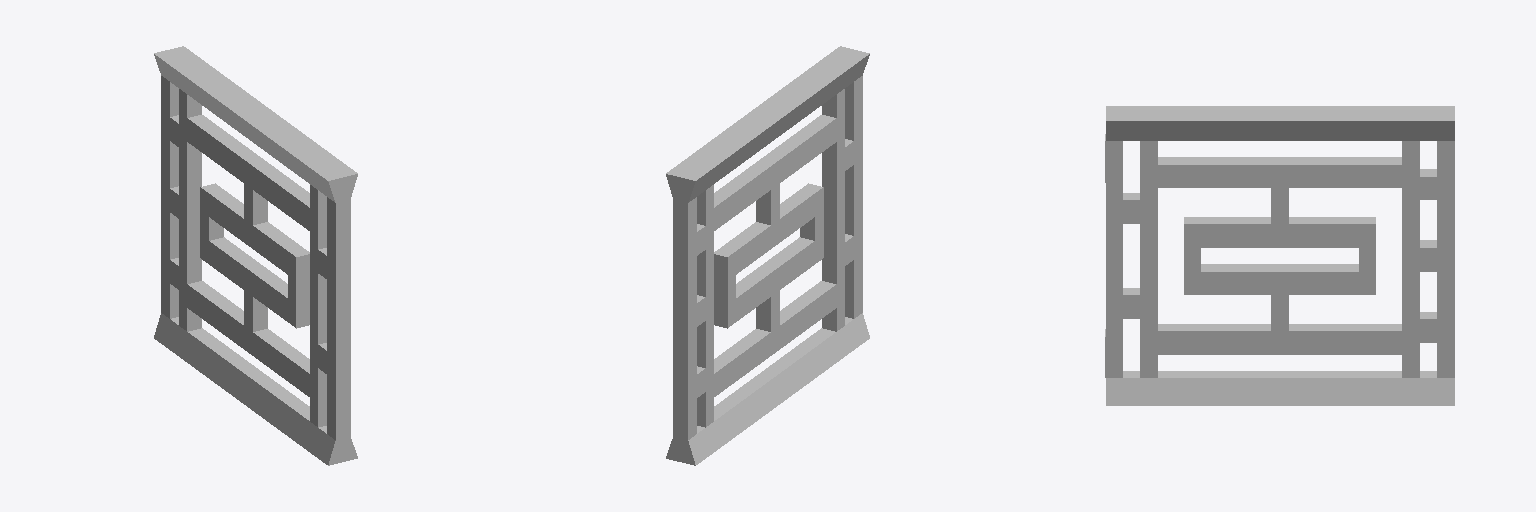
The model's file is frieze_old.obj.
The picture shows the model from 3 angles: view 1: azimuth 30°, elevation 25°; view 2: azimuth 150°, elevation 25°; view 3: azimuth 270°, elevation 25°; orthographic projection.
Visible parts, largest first — view 1: Box171; view 2: Box171; view 3: Box171.
Boxes of the visible parts, <box> form: Box171: <box>154,46,357,465</box>; Box171: <box>666,46,869,465</box>; Box171: <box>1105,106,1454,405</box>.
Bounding box in the file's own units: 3.07 × 27.59 × 30.65.